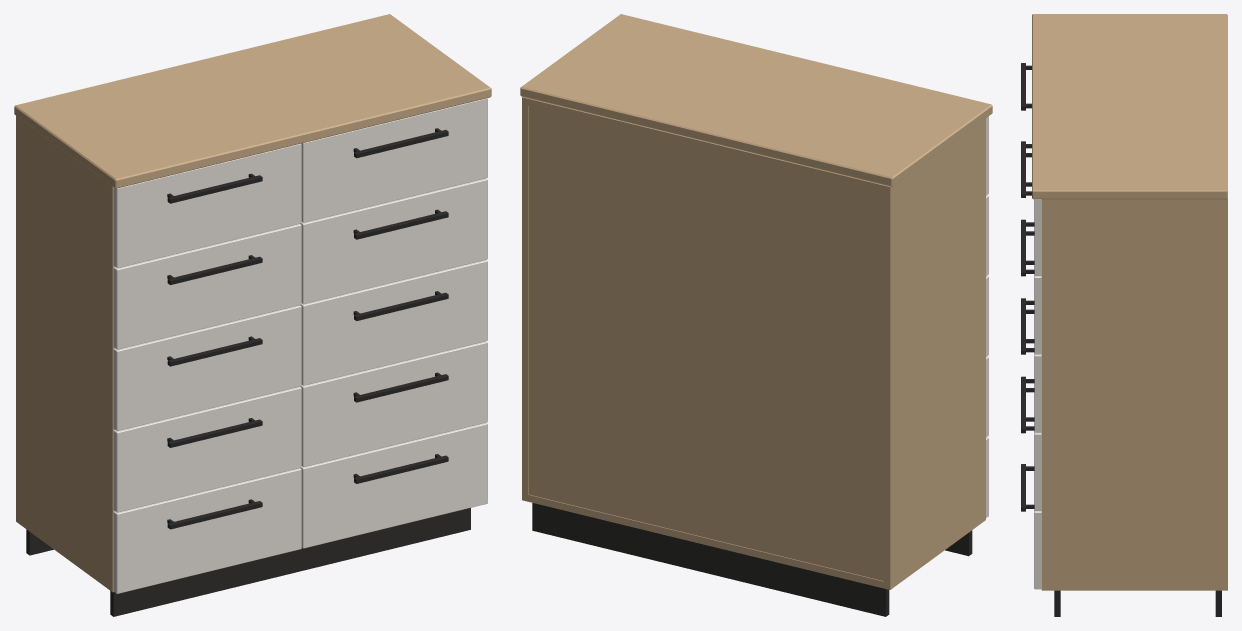
The model's file is 49_komoda_100_wysoka_2x5.glb.
3 views of the same model, side by side, from view 1: azimuth 30°, elevation 25°; view 2: azimuth 150°, elevation 25°; view 3: azimuth 270°, elevation 25° (orthographic). The views are drawn at different scales.
Parts seen in each view (by area): view 1: Wierzch, Korpus, Front_szuflada_3, Front_szuflada_2, Front_szuflada_4, Front_szuflada_5, Front_szuflada_7, Front_szuflada_10, Front_szuflada_9, Front_szuflada_8, Front_szuflada_1, Front_szuflada_6 (+2 smaller); view 2: Korpus, Wierzch, Cokol; view 3: Korpus, Wierzch, Uchwyty, Front_szuflada_8, Front_szuflada_9, Front_szuflada_7, Front_szuflada_10, Front_szuflada_6, Cokol.
Part boxes in pixels (<box>): Wierzch: <box>14,14,491,188</box>; Korpus: <box>16,116,114,592</box>; Front_szuflada_3: <box>113,305,301,430</box>; Front_szuflada_2: <box>113,224,301,349</box>; Front_szuflada_4: <box>113,386,301,512</box>; Front_szuflada_5: <box>113,468,301,593</box>; Front_szuflada_7: <box>300,178,487,304</box>; Front_szuflada_10: <box>300,422,487,548</box>; Front_szuflada_9: <box>300,341,487,466</box>; Front_szuflada_8: <box>300,260,487,385</box>; Front_szuflada_1: <box>113,143,301,268</box>; Front_szuflada_6: <box>301,98,487,222</box>; Korpus: <box>522,97,985,589</box>; Wierzch: <box>520,14,992,186</box>; Cokol: <box>532,503,972,616</box>; Korpus: <box>1041,198,1227,590</box>; Wierzch: <box>1032,14,1227,199</box>; Uchwyty: <box>1021,63,1034,511</box>; Front_szuflada_8: <box>1034,354,1041,432</box>; Front_szuflada_9: <box>1034,432,1041,510</box>; Front_szuflada_7: <box>1034,276,1041,354</box>; Front_szuflada_10: <box>1034,511,1041,589</box>; Front_szuflada_6: <box>1034,199,1041,275</box>; Cokol: <box>1054,590,1221,616</box>.
Size of the model in its own units: 1.01 by 1.15 by 0.5.
